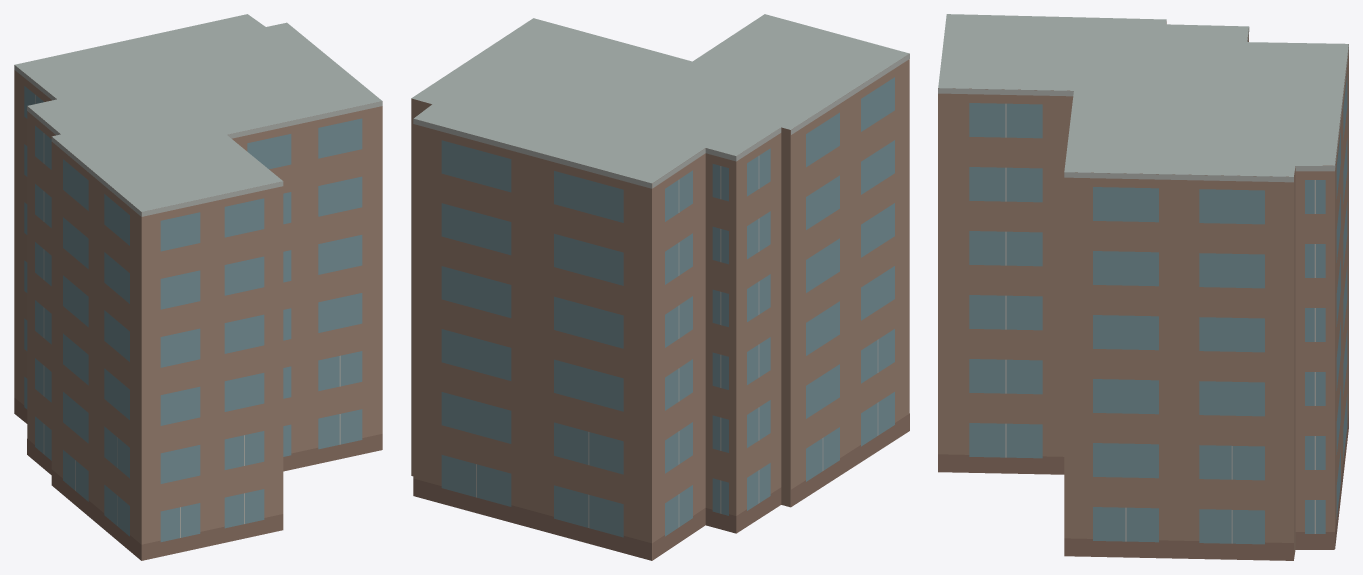
Rendered from survey-upis-32553810.glb.
3 renders of one model, left to right at view 1: azimuth 30°, elevation 25°; view 2: azimuth 150°, elevation 25°; view 3: azimuth 270°, elevation 25°, orthographic. The views are drawn at different scales.
Visible parts, largest first — view 1: survey-upis-32553810.tmp; view 2: survey-upis-32553810.tmp; view 3: survey-upis-32553810.tmp.
Boxes of the visible parts, x1=… form: survey-upis-32553810.tmp: x1=14, y1=14, x2=382, y2=560; survey-upis-32553810.tmp: x1=411, y1=14, x2=909, y2=560; survey-upis-32553810.tmp: x1=938, y1=14, x2=1348, y2=560.
Size of the model in its own units: 15.66 by 17.2 by 16.68.
